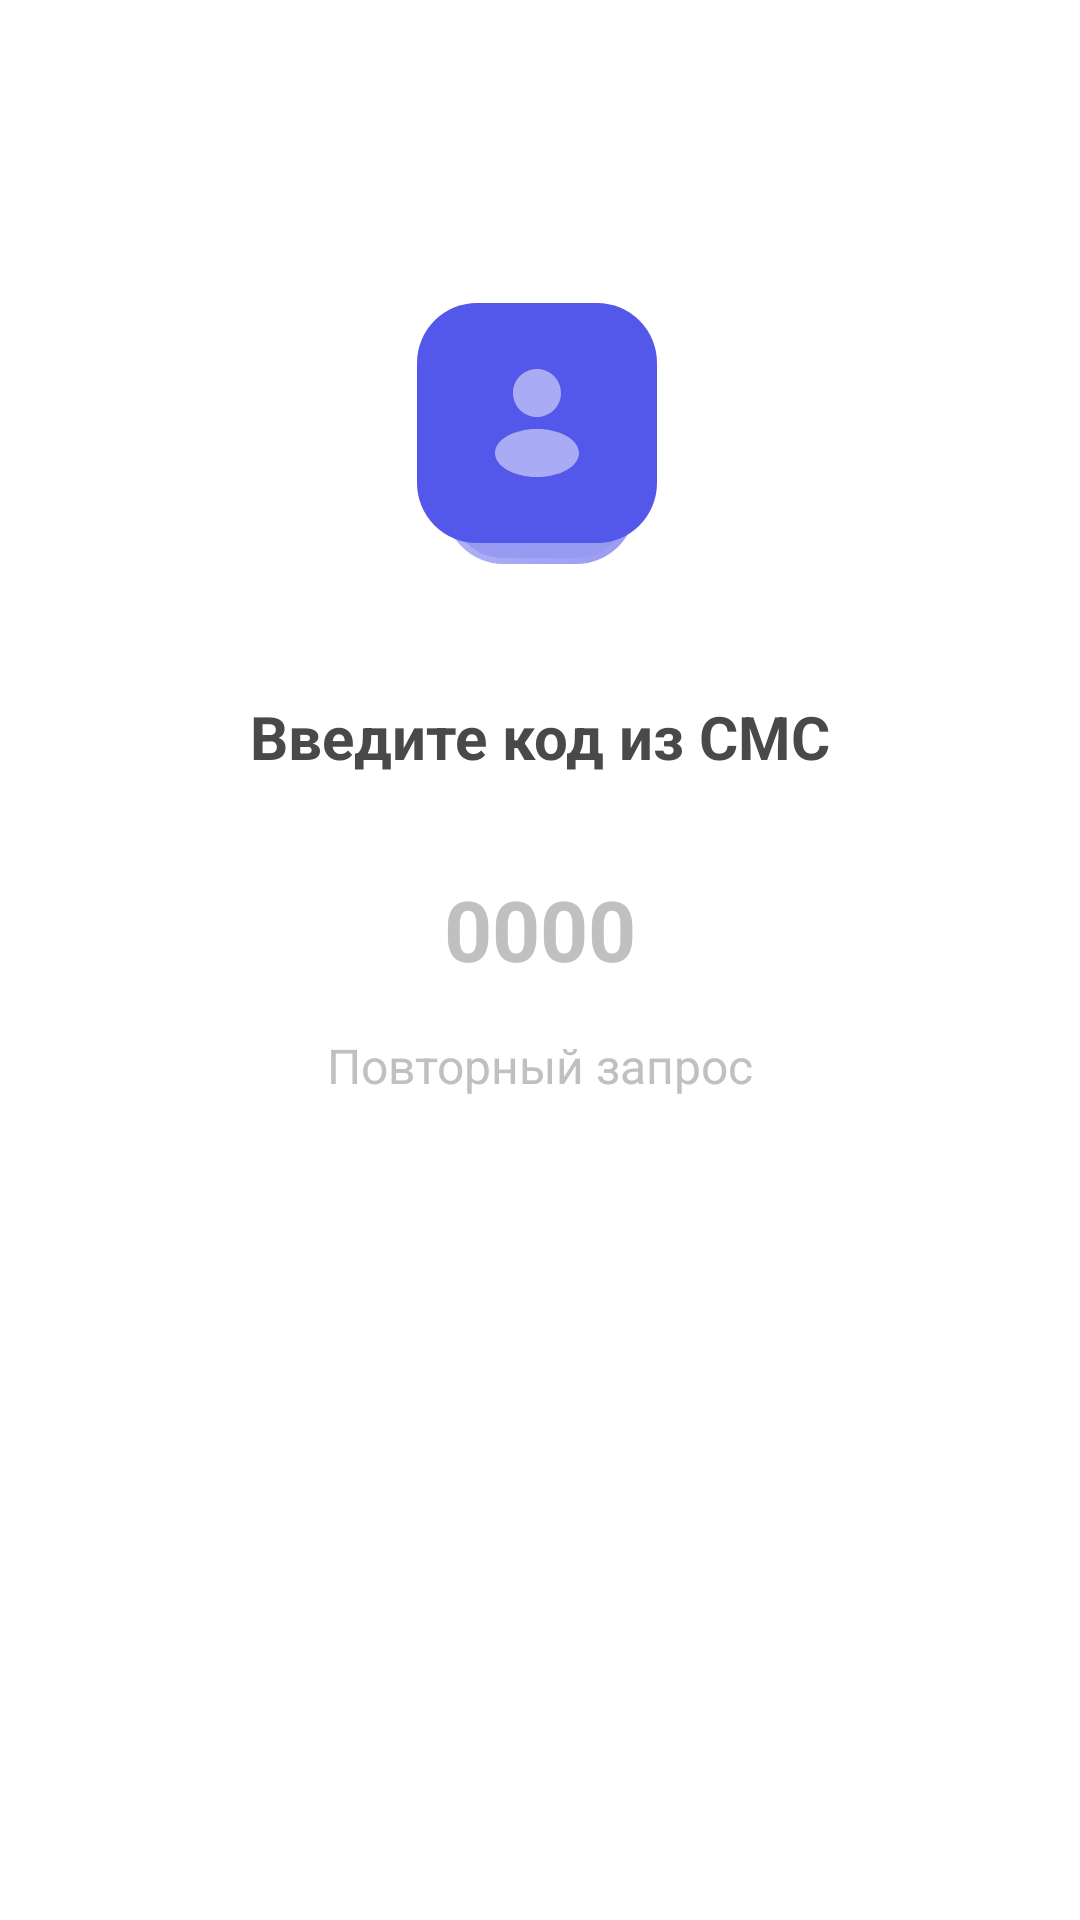

Where icons sit on this 1080w x 1920h app screen, as bbox(x1, y1, x2, y2):
user code: bbox(417, 303, 657, 564)
